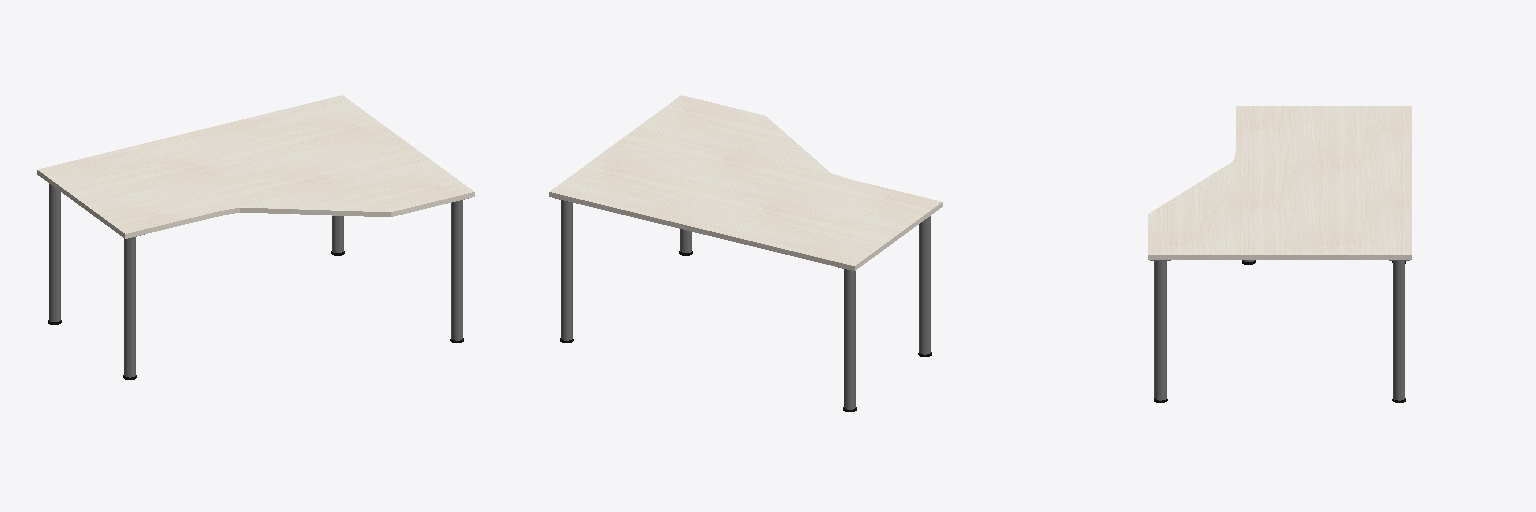
The picture shows the model from 3 angles: view 1: azimuth 30°, elevation 25°; view 2: azimuth 150°, elevation 25°; view 3: azimuth 270°, elevation 25°; orthographic projection.
Visible parts, largest first — view 1: pear_table_Cube.003, leg_downleft4_Cylinder.012, leg_downright4_Cylinder.015, leg_upleft4_Cylinder.013; view 2: pear_table_Cube.003, leg_upleft4_Cylinder.013, leg_upright4_Cylinder.014, leg_downleft4_Cylinder.012; view 3: pear_table_Cube.003, leg_downright4_Cylinder.015, leg_upright4_Cylinder.014.
Part boxes in pixels (left/top/right/bottom): pear_table_Cube.003: left=37, top=95, right=474, bottom=238; leg_downleft4_Cylinder.012: left=123, top=234, right=144, bottom=379; leg_downright4_Cylinder.015: left=450, top=198, right=468, bottom=342; leg_upleft4_Cylinder.013: left=48, top=184, right=61, bottom=324; pear_table_Cube.003: left=549, top=95, right=942, bottom=270; leg_upleft4_Cylinder.013: left=838, top=267, right=856, bottom=411; leg_upright4_Cylinder.014: left=555, top=198, right=573, bottom=342; leg_downleft4_Cylinder.012: left=918, top=216, right=931, bottom=356; pear_table_Cube.003: left=1148, top=106, right=1411, bottom=259; leg_downright4_Cylinder.015: left=1150, top=260, right=1170, bottom=402; leg_upright4_Cylinder.014: left=1389, top=260, right=1409, bottom=402.
Bounding box in the file's own units: 160 × 75.38 × 120.
3 materials, 1 textured.